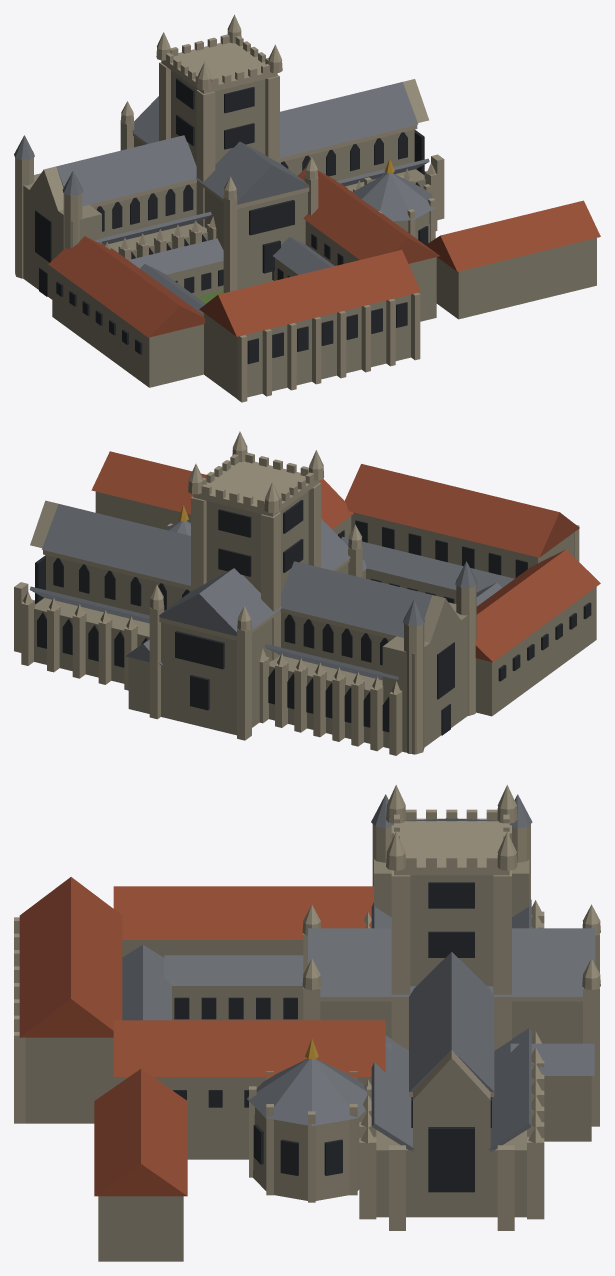
File: medieval_abbey.glb
The picture shows the model from 3 angles, top to bottom: view 1: azimuth 30°, elevation 25°; view 2: azimuth 150°, elevation 25°; view 3: azimuth 270°, elevation 25°; orthographic projection. The views are drawn at different scales.
Visible parts, largest first — view 1: medieval_abbey; view 2: medieval_abbey; view 3: medieval_abbey.
Part boxes in pixels (bbox=[...]): medieval_abbey: bbox=[14, 14, 600, 402]; medieval_abbey: bbox=[14, 431, 600, 755]; medieval_abbey: bbox=[14, 785, 600, 1261].
Bounding box in the file's own units: 90 × 41.1 × 75.56.
